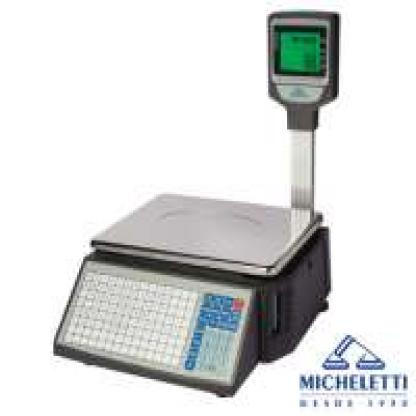Displays: (279, 31, 322, 73)
